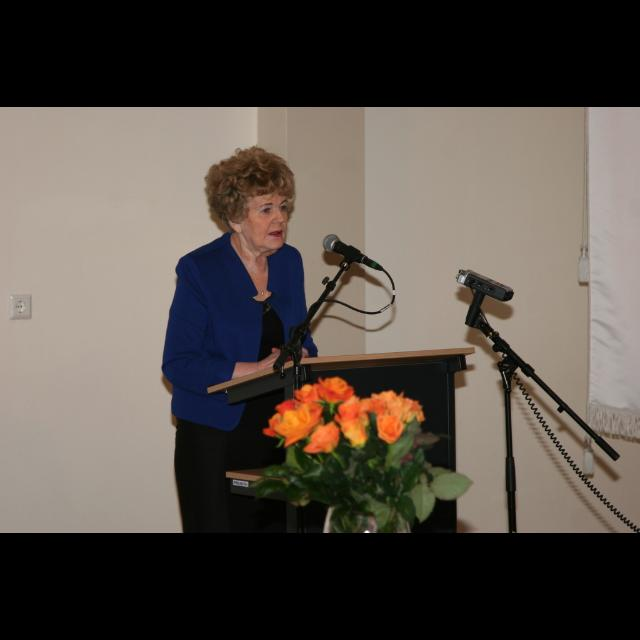Flower: (268, 382, 426, 463)
